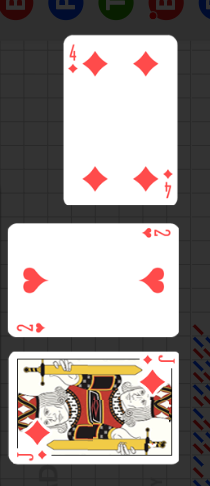2H: (140, 227, 172, 240), (16, 321, 47, 334)
4D: (67, 44, 79, 75)
